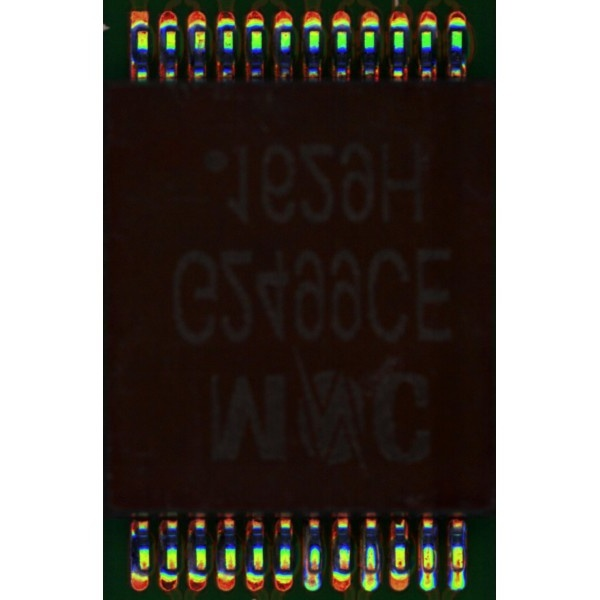Bad_podu: (454, 560, 462, 582), (366, 564, 375, 580), (309, 566, 319, 580), (425, 564, 432, 582)
